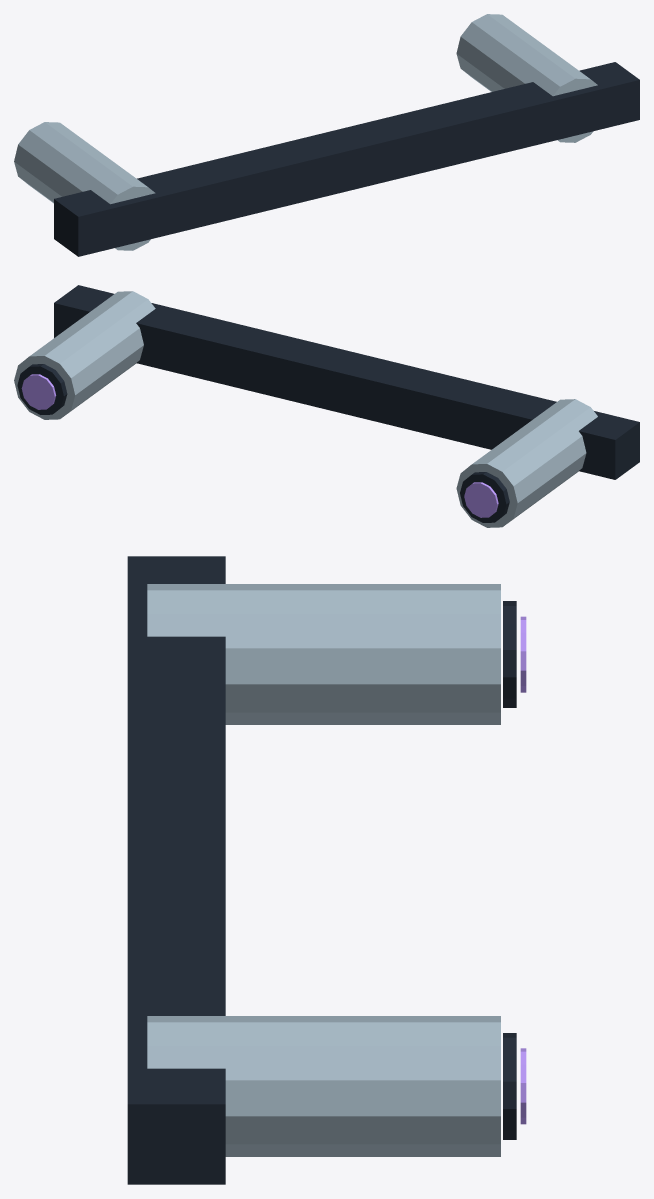
The model's file is electric.glb.
3 renders of one model, top to bottom at view 1: azimuth 30°, elevation 25°; view 2: azimuth 150°, elevation 25°; view 3: azimuth 270°, elevation 25°, orthographic. The views are drawn at different scales.
Visible parts, largest first — view 1: EffectAccessory; view 2: EffectAccessory; view 3: EffectAccessory.
Boxes of the visible parts, left/top/right/bottom form: EffectAccessory: left=14, top=14, right=639, bottom=256; EffectAccessory: left=14, top=285, right=639, bottom=527; EffectAccessory: left=127, top=556, right=526, bottom=1184.
Size of the model in its own units: 0.66 by 0.072 by 0.203.
